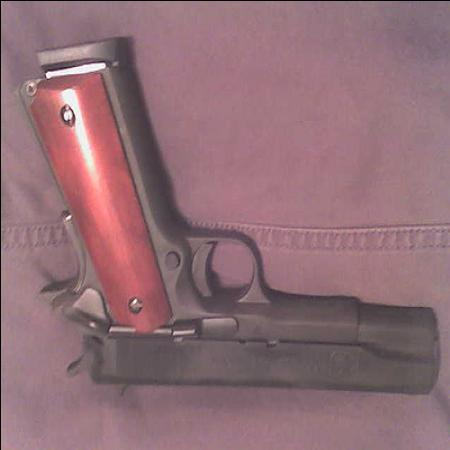Pistol: (21, 42, 441, 400)
